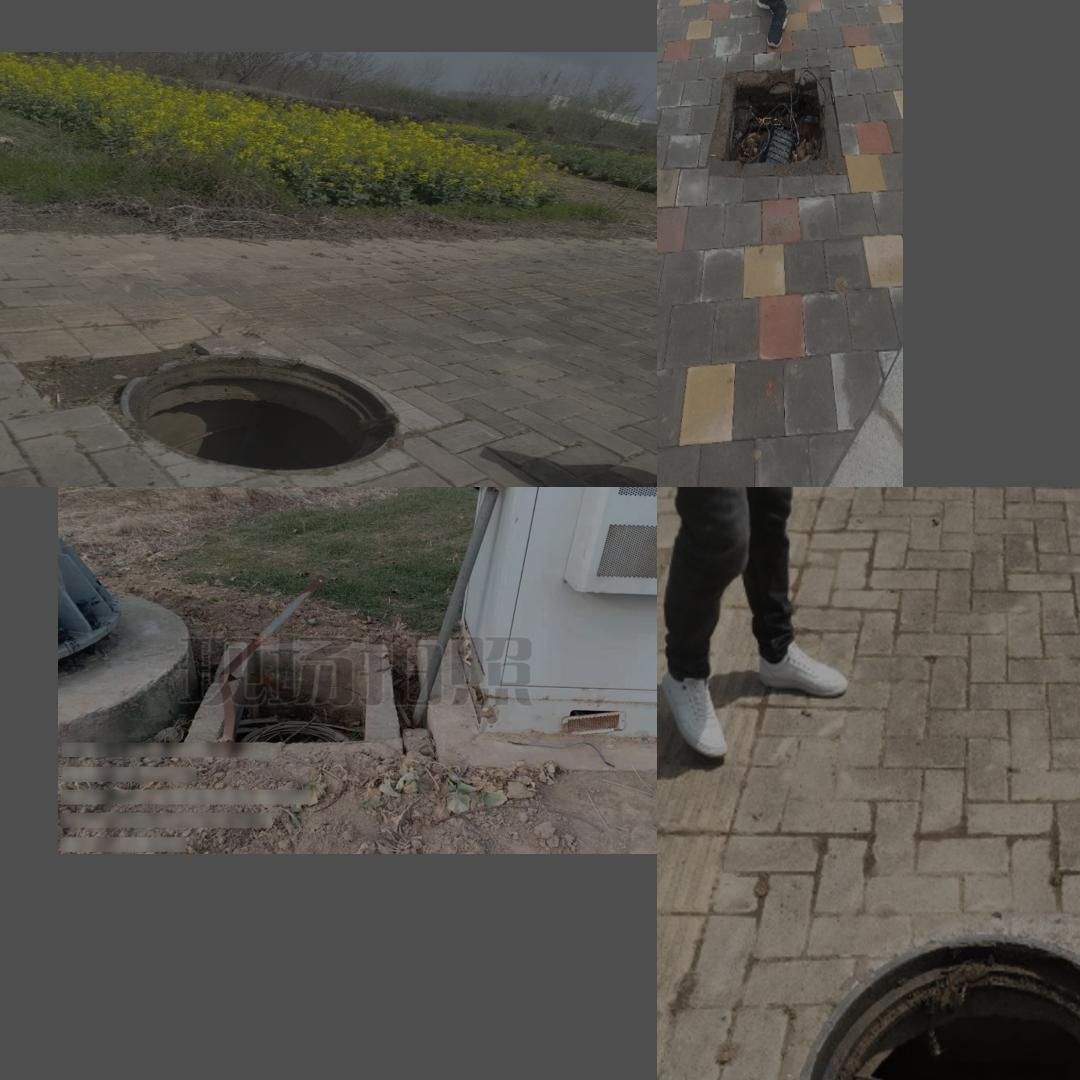lose: (791, 932, 1080, 1080), (112, 352, 407, 472), (216, 641, 368, 743), (722, 79, 832, 163)
